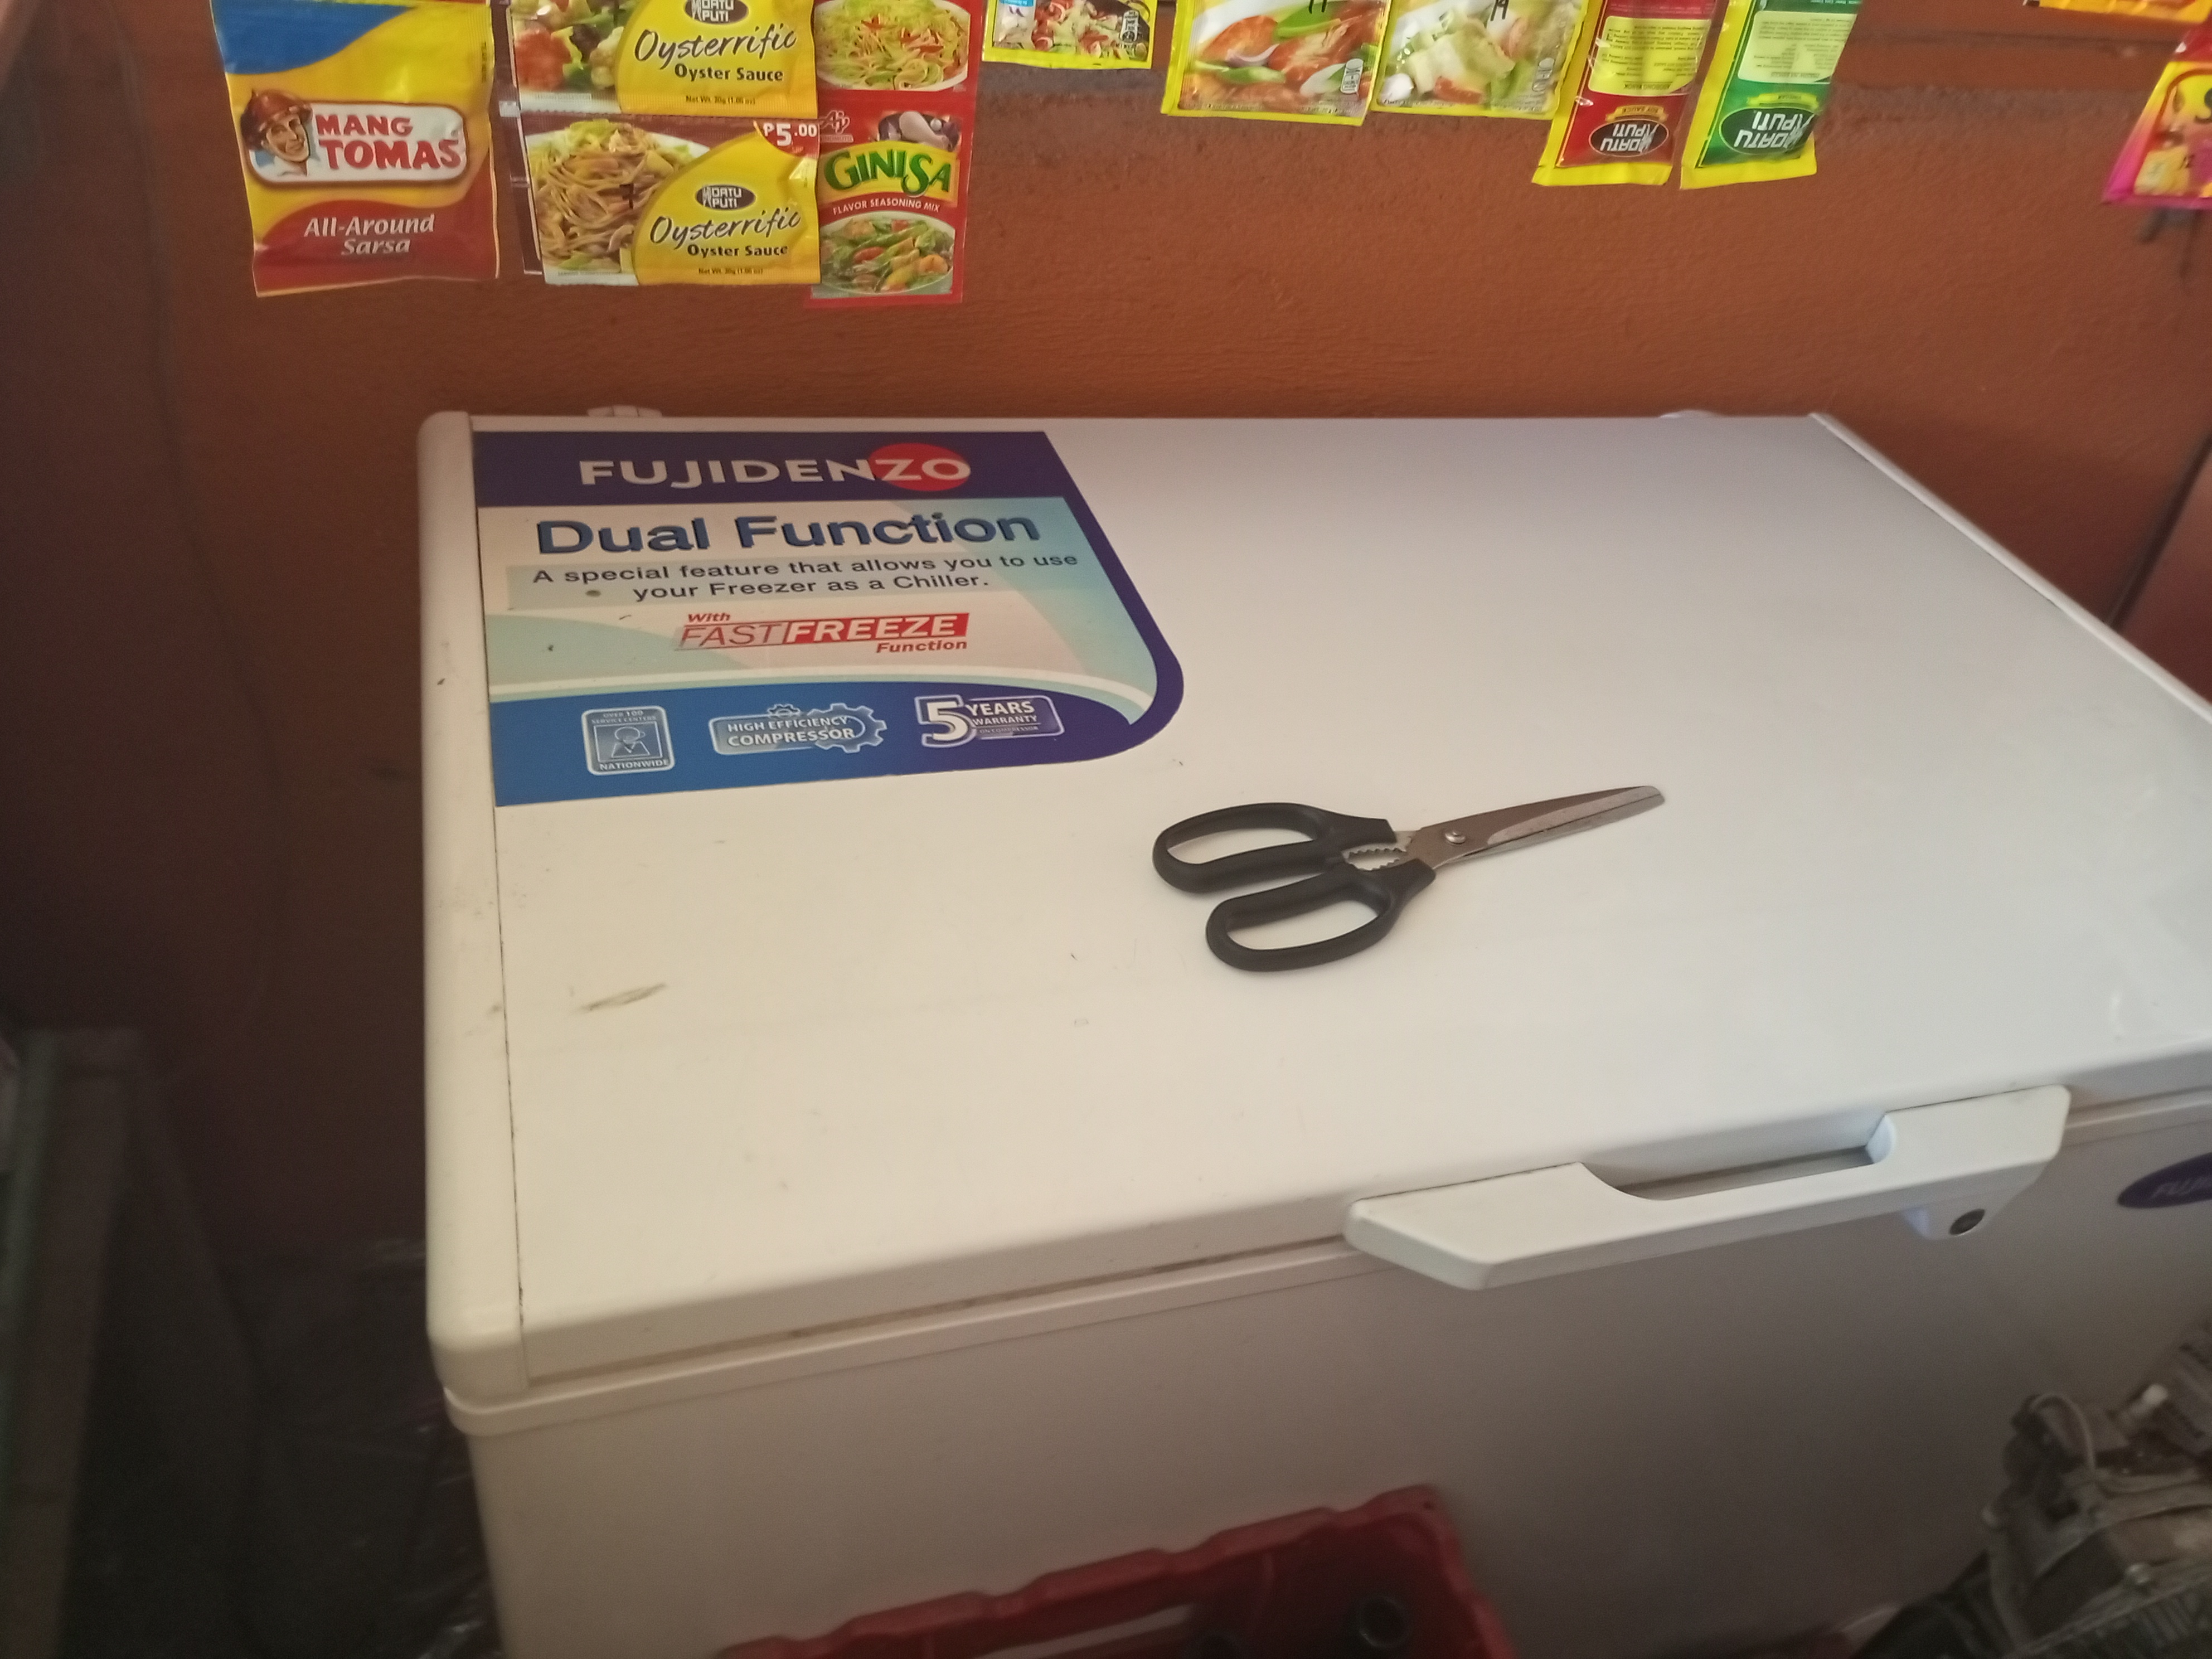scissor: (1150, 786, 1674, 972)
